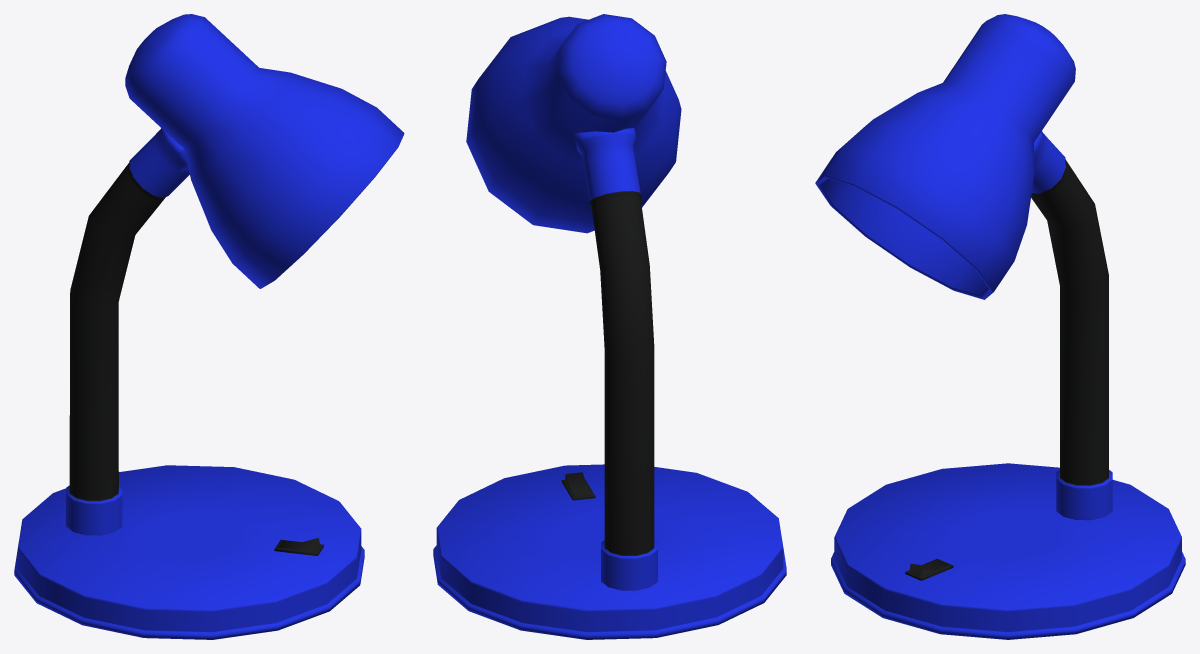
The model's file is lamp.fbx.
The picture shows the model from 3 angles, left to right: view 1: azimuth 30°, elevation 25°; view 2: azimuth 150°, elevation 25°; view 3: azimuth 270°, elevation 25°; orthographic projection.
Parts seen in each view (by area): view 1: lamp; view 2: lamp; view 3: lamp.
Boxes of the visible parts, x1,y1,x2,y2 form: lamp: [14, 14, 404, 639]; lamp: [433, 14, 786, 639]; lamp: [815, 14, 1185, 639].
Size of the model in its own units: 5.25 by 8.48 by 5.21.
